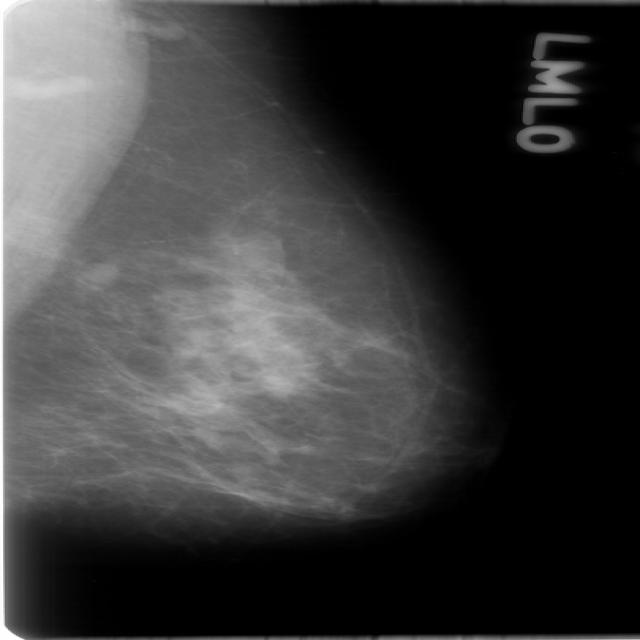tumour: (76, 262, 117, 289)
